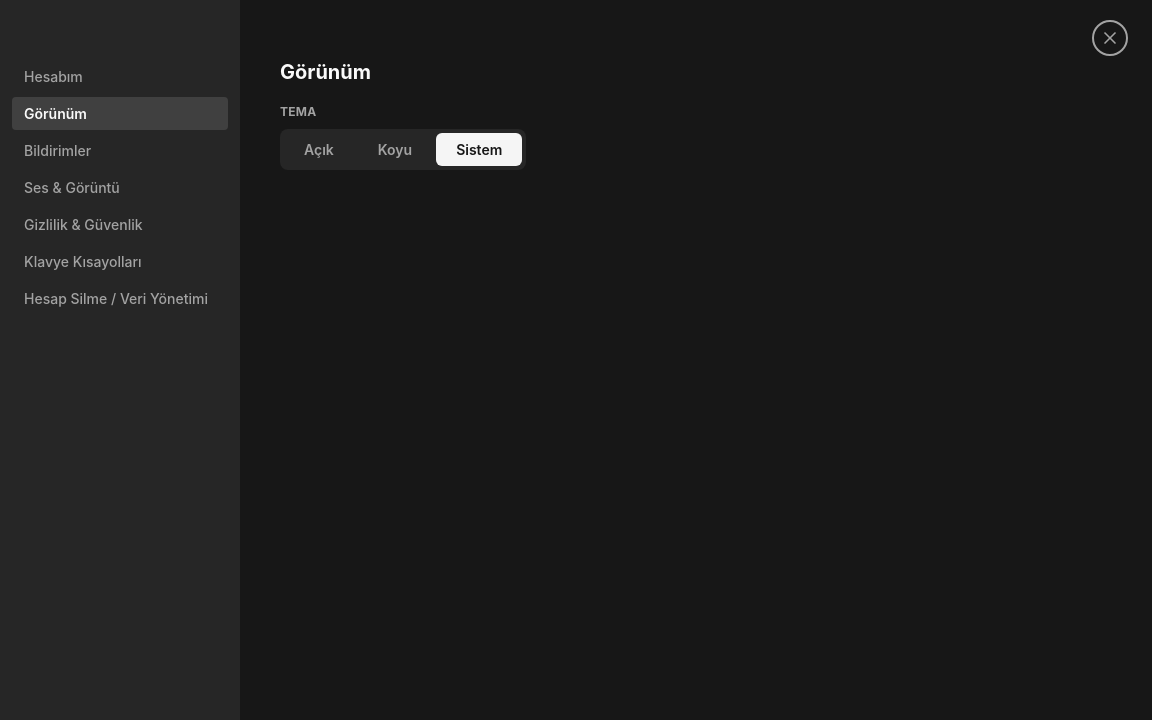
UserSettingsModal › switches categories, e.g. to "Hesap Silme / Veri Yönetimi"
This screenshot has width=1152, height=720.
Step 1. Click the button "Hesap Silme / Veri Yönetimi" → (120, 298), box [12,282,228,315]
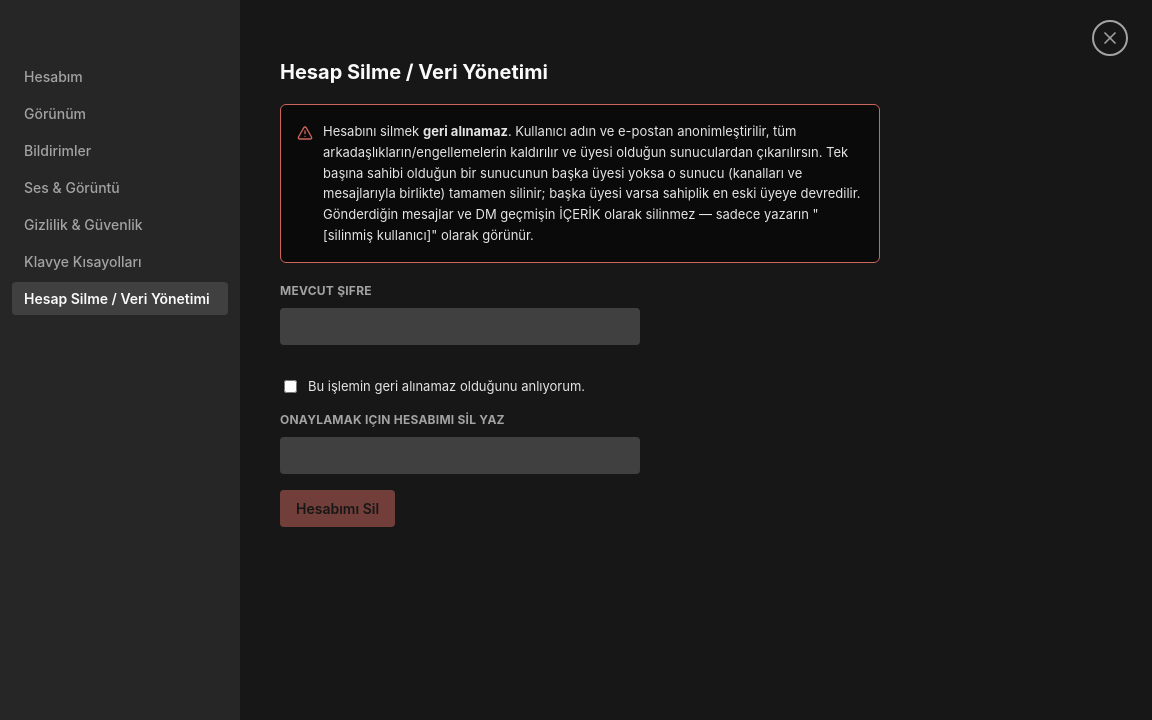
Now the heading "Hesap Silme / Veri Yönetimi" is shown, box [280,60,548,84]
Now the label "Tema" is gone
